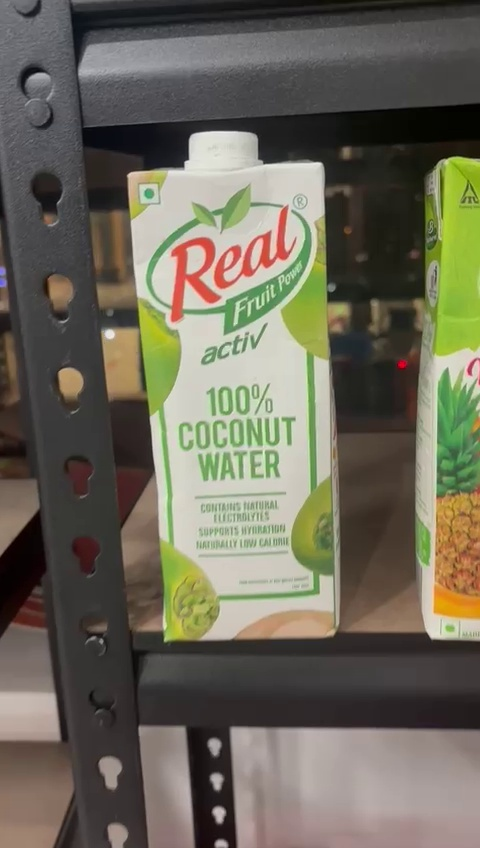Coconut water: (130, 128, 342, 639)
